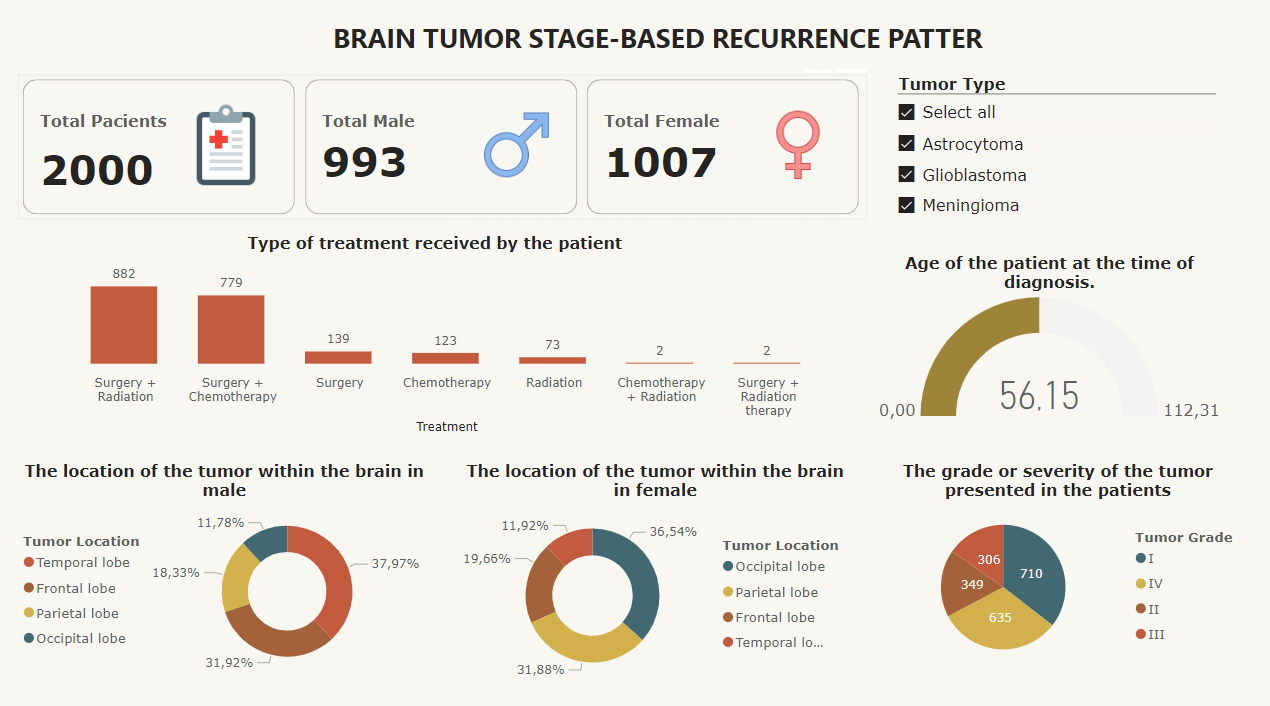

What the dashboard file says about the page in this screenshot:
{"tool":"powerbi","page":{"name":"Page 2","canvas":[1280,720],"ordinal":1},"visuals":[{"type":"cardVisual","fields":{"Data":["BrainTumor.totalpacients","BrainTumor.gender male","BrainTumor.gender female"]},"box":[20.5,77.2,847.8,145.9],"z":0},{"type":"slicer","fields":{"Values":["BrainTumor.Tumor Type"]},"box":[887.6,72.4,343.7,155.6],"z":1000},{"type":"pieChart","title":"The grade or severity of the tumor presented in the patients","fields":{"Y":["BrainTumor.totalpacients"],"Category":["BrainTumor.Tumor Grade"]},"box":[868.3,464.3,382.3,214.7],"z":2000},{"type":"donutChart","title":"The location of the tumor within the brain in female","fields":{"Y":["BrainTumor.gender female"],"Category":["BrainTumor.Tumor Location"]},"box":[459.5,464.3,394.4,231.6],"z":3000},{"type":"donutChart","title":"The location of the tumor within the brain in male","fields":{"Y":["BrainTumor.gender male"],"Category":["BrainTumor.Tumor Location"]},"box":[20.5,464.3,412.5,223.1],"z":4000},{"type":"gauge","title":"Age of the patient at the time of diagnosis.","fields":{"Y":["BrainTumor.average age"]},"box":[870.8,255.7,360.6,173.7],"z":5000},{"type":"clusteredColumnChart","title":"Type of treatment received by the patient","fields":{"Y":["BrainTumor.count treatment"],"Category":["BrainTumor.Treatment"]},"box":[20.5,236.4,833.4,205],"z":6000},{"type":"textbox","box":[330.5,18.1,674.2,54.3],"z":6001}]}

Visuals, with their boxes in screenshot pixels (x1, y1, x2, y2), scaled from the page's 1280x720 canvas onto the 1270x706 screenshot:
cardVisual - BrainTumor.totalpacients x BrainTumor.gender male: [left=20, top=76, right=862, bottom=219]
slicer - BrainTumor.Tumor Type: [left=881, top=71, right=1222, bottom=224]
"The grade or severity of the tumor presented in the patients" pieChart: [left=862, top=455, right=1241, bottom=666]
"The location of the tumor within the brain in female" donutChart: [left=456, top=455, right=847, bottom=682]
"The location of the tumor within the brain in male" donutChart: [left=20, top=455, right=430, bottom=674]
"Age of the patient at the time of diagnosis." gauge: [left=864, top=251, right=1222, bottom=421]
"Type of treatment received by the patient" clusteredColumnChart: [left=20, top=232, right=847, bottom=433]
textbox: [left=328, top=18, right=997, bottom=71]
